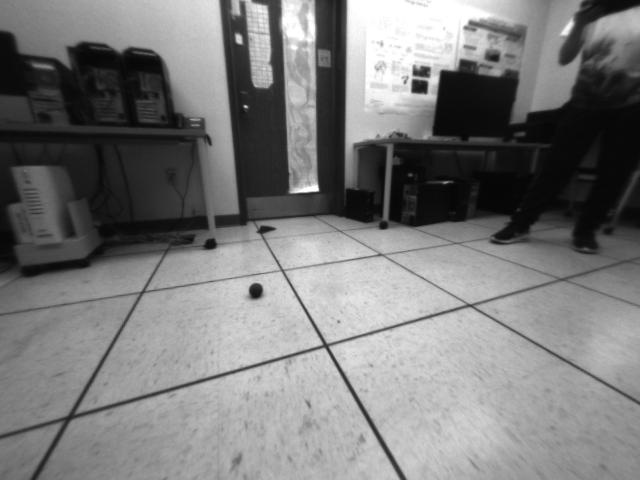dogtoy: (245, 277, 268, 303)
